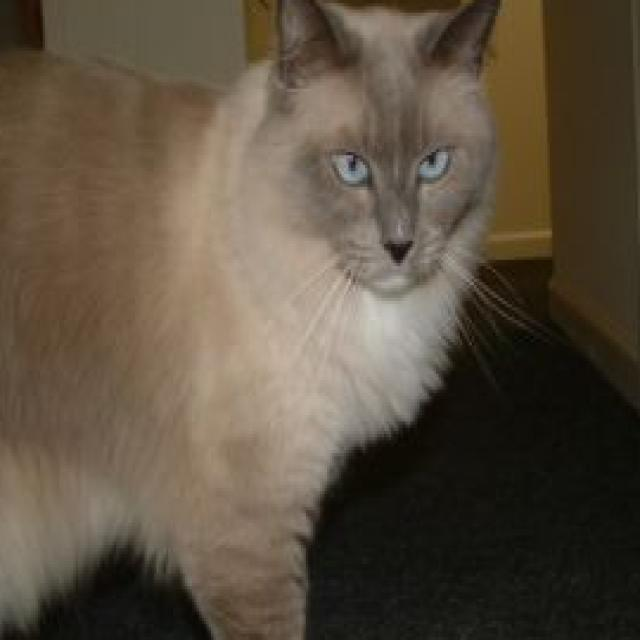Ragdoll: (0, 0, 510, 640)
